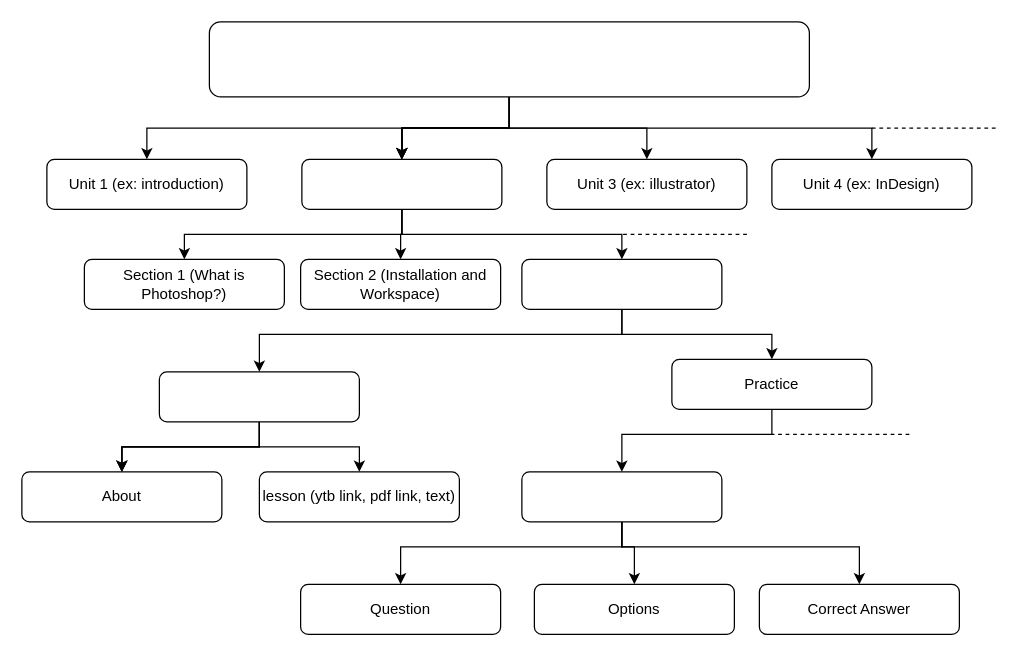
Image size: 1019x656. Some labels were removed from this diagram. Here are the shapes that lost their labels. From the top down, the centre of each, then its label:
At (x=508, y=59): "course (ex: infography)".
At (x=401, y=183): "Unit 2 (ex: Photoshop)".
At (x=621, y=283): "Section 3 (Layers)".
At (x=258, y=396): "Learn".
At (x=621, y=496): "Q1 (QCM)".
